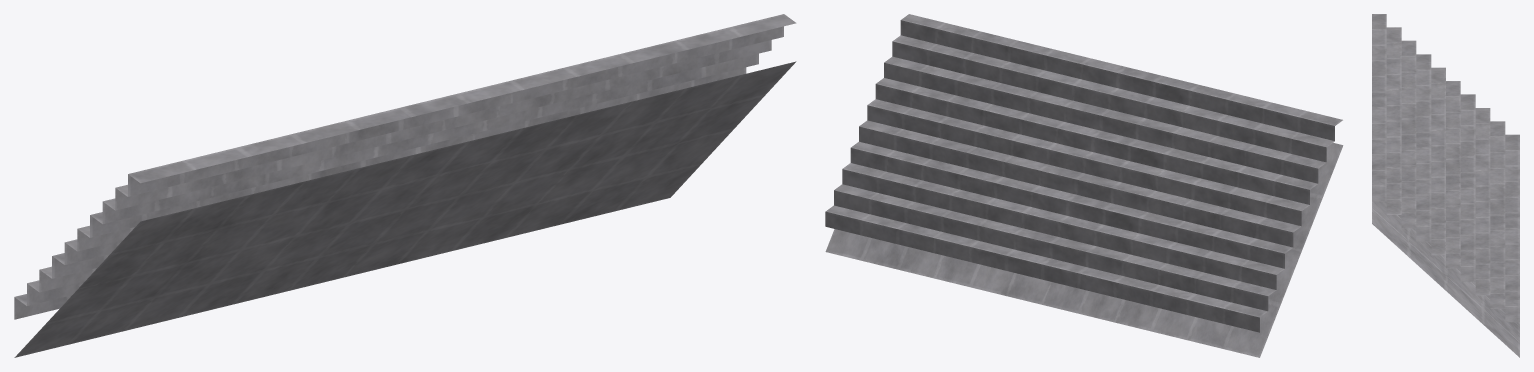
File: Stair_2h_D.fbx
3 renders of one model, left to right at view 1: azimuth 30°, elevation 25°; view 2: azimuth 150°, elevation 25°; view 3: azimuth 270°, elevation 25°, orthographic. The views are drawn at different scales.
Visible parts, largest first — view 1: Stair_2h_D; view 2: Stair_2h_D; view 3: Stair_2h_D.
Part boxes in pixels (<box>): Stair_2h_D: <box>14,14,796,357</box>; Stair_2h_D: <box>825,14,1343,357</box>; Stair_2h_D: <box>1372,14,1519,357</box>.
Size of the model in its own units: 6 by 2 by 2.33.
